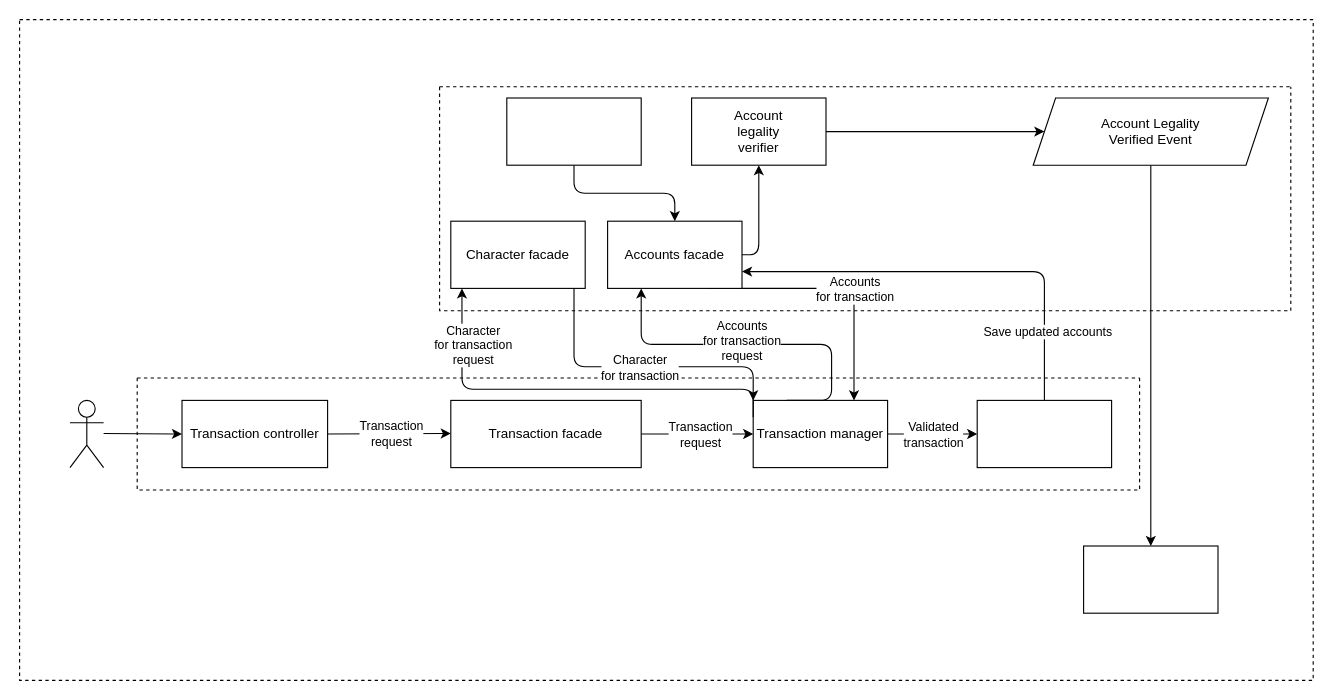
The diagram is 1333 pixels wide and 700 high, and some of its shapes have lost their labels. The shapes that lost their labels are listed below. From the top down, each one's box as (x1, y1, x2, y2) in pixels, then its label:
(506, 97, 641, 165): Account repository
(69, 399, 104, 468): Buyer
(976, 399, 1112, 468): Transaction executor (update account state and characters collection)
(1082, 545, 1218, 613): Event Bus
